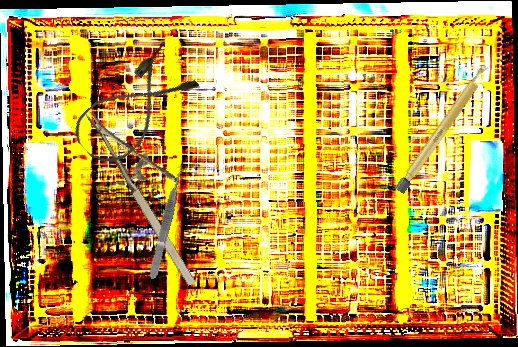Cannula: (66, 43, 202, 174)
Needle Holder: (85, 90, 226, 290)
Scalpel Handle: (394, 63, 492, 195)
Tissue Forceps: (146, 170, 186, 281)
